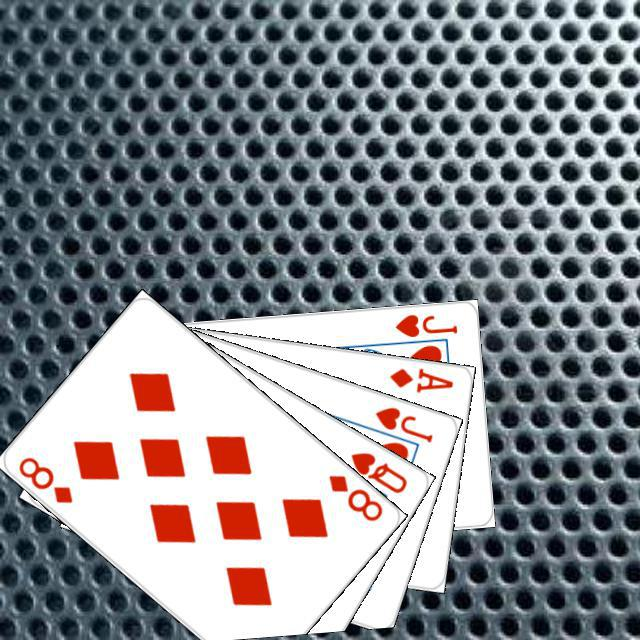8d: (13, 451, 75, 506), (323, 469, 385, 523)
Ad: (384, 363, 455, 395)
Jh: (370, 402, 435, 445), (390, 309, 459, 339)
Qh: (345, 447, 409, 495)
